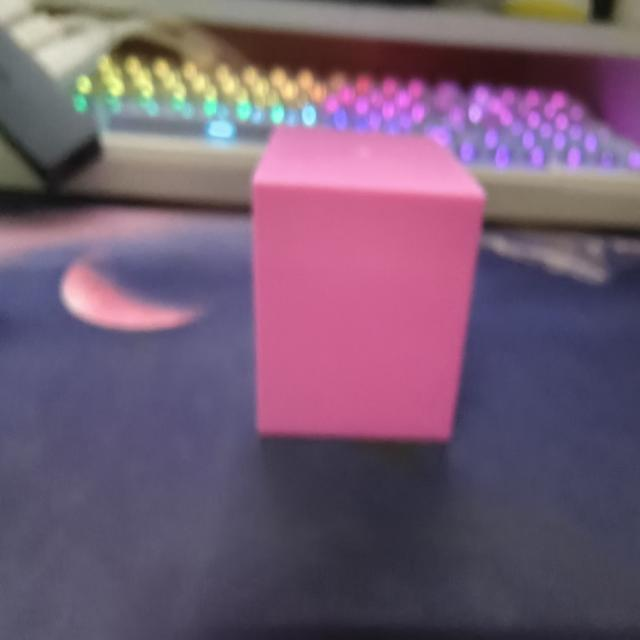pink: (247, 123, 490, 456)
